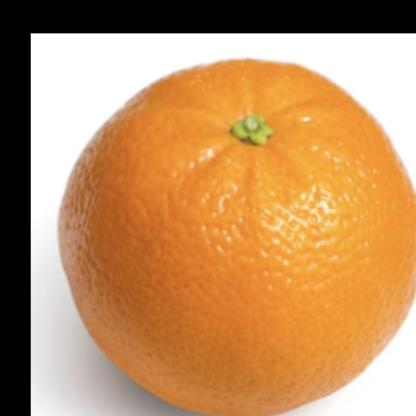rotten: (56, 61, 416, 416)
